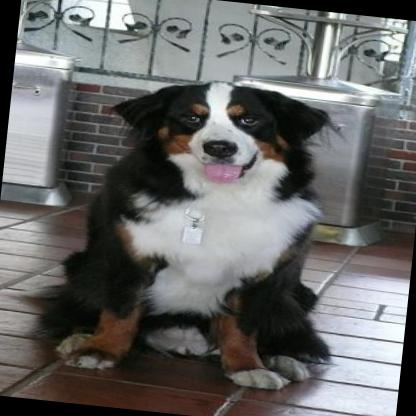Bernese_mountain_dog: (33, 66, 357, 396)
